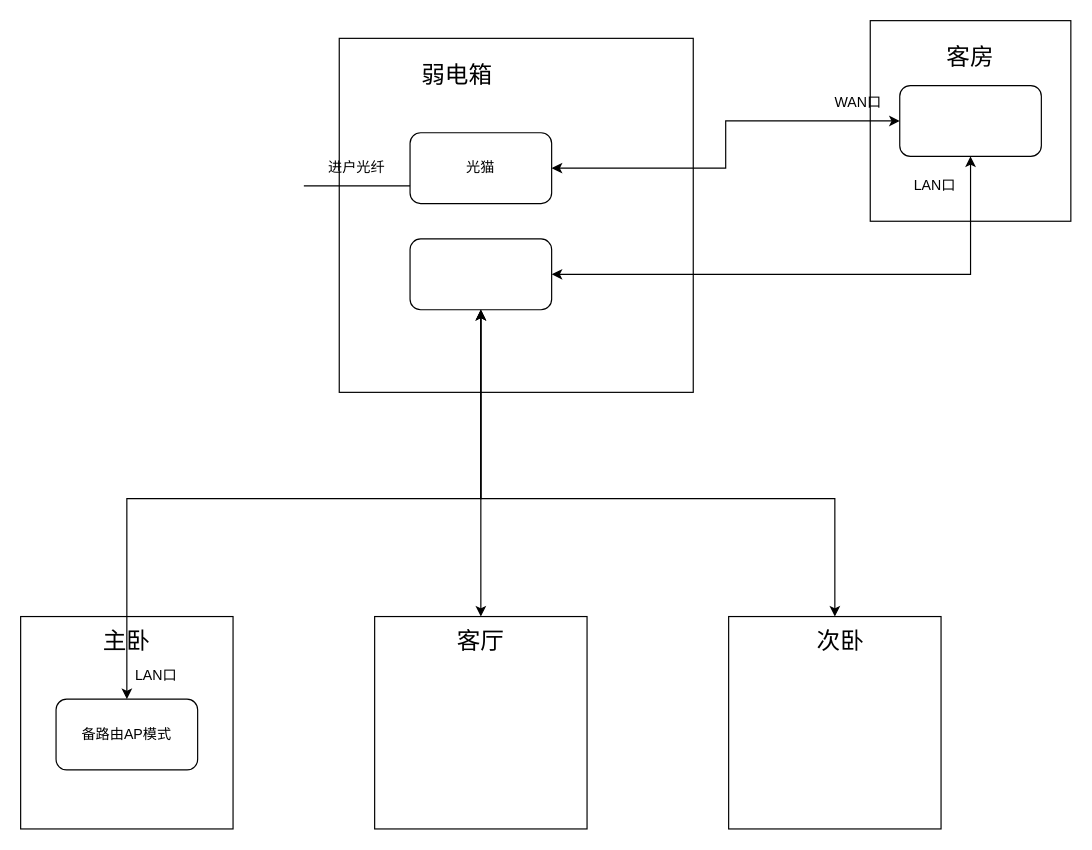
The diagram is 1092 pixels wide and 850 high, and some of its shapes have lost their labels. The shapes that lost their labels are listed below. From the top down, each one's centre as x and y in pixels, then its label:
At [970,120]: "主路由".
At [480,274]: "交换机".
